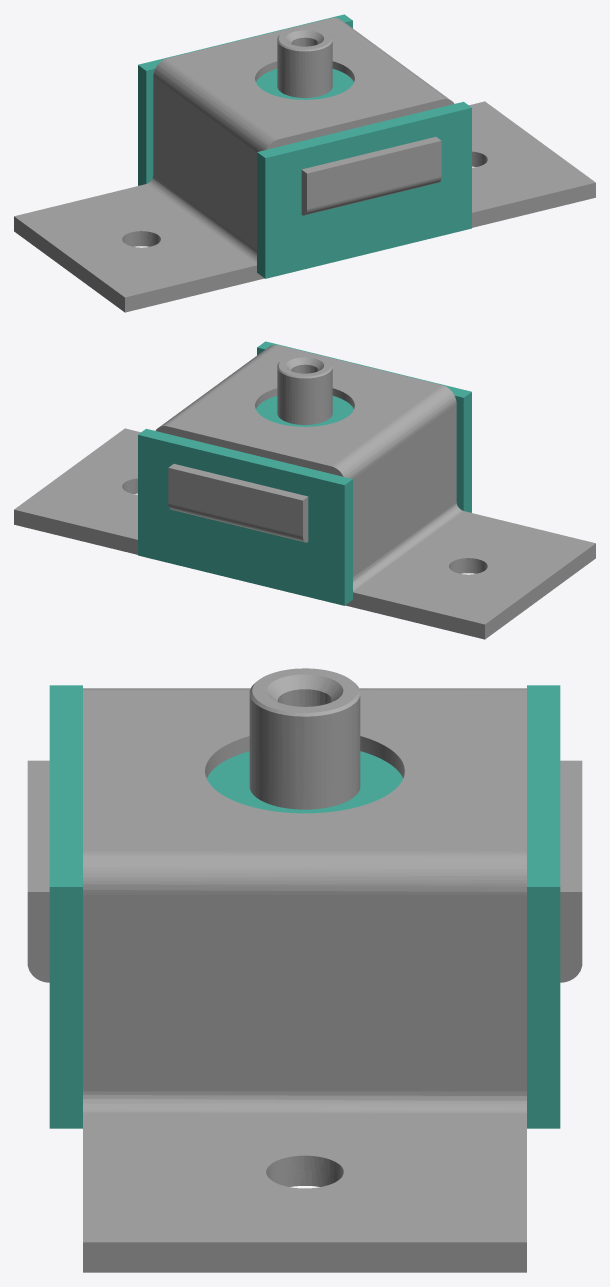
The model's file is EP_SYLOMER.fbx.
3 renders of one model, top to bottom at view 1: azimuth 30°, elevation 25°; view 2: azimuth 150°, elevation 25°; view 3: azimuth 270°, elevation 25°, orthographic. The views are drawn at different scales.
Parts seen in each view (by area): view 1: EF243C8A0DBEE86366BDCDA20E7DCD0C81D860C5|:|3F635CC986B490470, EF243C8A0DBEE86366BDCDA20E7DCD0C81D860C5|:|62A847F87F404A138, EF243C8A0DBEE86366BDCDA20E7DCD0C81D860C5|:|56E04FEF2A7239C0D, EF243C8A0DBEE86366BDCDA20E7DCD0C81D860C5|:|7325FF14D543F8139, EF243C8A0DBEE86366BDCDA20E7DCD0C81D860C5|:|C906BBC760572095F, EF243C8A0DBEE86366BDCDA20E7DCD0C81D860C5|:|B8A4396250C5687B1; view 2: EF243C8A0DBEE86366BDCDA20E7DCD0C81D860C5|:|3F635CC986B490470, EF243C8A0DBEE86366BDCDA20E7DCD0C81D860C5|:|62A847F87F404A138, EF243C8A0DBEE86366BDCDA20E7DCD0C81D860C5|:|56E04FEF2A7239C0D, EF243C8A0DBEE86366BDCDA20E7DCD0C81D860C5|:|7325FF14D543F8139, EF243C8A0DBEE86366BDCDA20E7DCD0C81D860C5|:|C906BBC760572095F, EF243C8A0DBEE86366BDCDA20E7DCD0C81D860C5|:|B8A4396250C5687B1; view 3: EF243C8A0DBEE86366BDCDA20E7DCD0C81D860C5|:|3F635CC986B490470, EF243C8A0DBEE86366BDCDA20E7DCD0C81D860C5|:|56E04FEF2A7239C0D, EF243C8A0DBEE86366BDCDA20E7DCD0C81D860C5|:|C906BBC760572095F, EF243C8A0DBEE86366BDCDA20E7DCD0C81D860C5|:|7325FF14D543F8139, EF243C8A0DBEE86366BDCDA20E7DCD0C81D860C5|:|62A847F87F404A138, EF243C8A0DBEE86366BDCDA20E7DCD0C81D860C5|:|B8A4396250C5687B1.
Boxes of the visible parts, x1,y1,x2,y2 form: EF243C8A0DBEE86366BDCDA20E7DCD0C81D860C5|:|3F635CC986B490470: (14, 17, 595, 304); EF243C8A0DBEE86366BDCDA20E7DCD0C81D860C5|:|62A847F87F404A138: (138, 125, 471, 278); EF243C8A0DBEE86366BDCDA20E7DCD0C81D860C5|:|56E04FEF2A7239C0D: (138, 14, 471, 218); EF243C8A0DBEE86366BDCDA20E7DCD0C81D860C5|:|7325FF14D543F8139: (301, 137, 441, 215); EF243C8A0DBEE86366BDCDA20E7DCD0C81D860C5|:|C906BBC760572095F: (277, 27, 332, 97); EF243C8A0DBEE86366BDCDA20E7DCD0C81D860C5|:|B8A4396250C5687B1: (14, 159, 595, 312); EF243C8A0DBEE86366BDCDA20E7DCD0C81D860C5|:|3F635CC986B490470: (14, 344, 595, 631); EF243C8A0DBEE86366BDCDA20E7DCD0C81D860C5|:|62A847F87F404A138: (138, 452, 471, 605); EF243C8A0DBEE86366BDCDA20E7DCD0C81D860C5|:|56E04FEF2A7239C0D: (138, 341, 471, 545); EF243C8A0DBEE86366BDCDA20E7DCD0C81D860C5|:|7325FF14D543F8139: (168, 464, 308, 542); EF243C8A0DBEE86366BDCDA20E7DCD0C81D860C5|:|C906BBC760572095F: (277, 354, 332, 424); EF243C8A0DBEE86366BDCDA20E7DCD0C81D860C5|:|B8A4396250C5687B1: (14, 486, 595, 639); EF243C8A0DBEE86366BDCDA20E7DCD0C81D860C5|:|3F635CC986B490470: (83, 688, 526, 1257); EF243C8A0DBEE86366BDCDA20E7DCD0C81D860C5|:|56E04FEF2A7239C0D: (49, 685, 560, 1007); EF243C8A0DBEE86366BDCDA20E7DCD0C81D860C5|:|C906BBC760572095F: (249, 668, 360, 809); EF243C8A0DBEE86366BDCDA20E7DCD0C81D860C5|:|7325FF14D543F8139: (27, 760, 582, 982); EF243C8A0DBEE86366BDCDA20E7DCD0C81D860C5|:|62A847F87F404A138: (49, 1007, 560, 1128); EF243C8A0DBEE86366BDCDA20E7DCD0C81D860C5|:|B8A4396250C5687B1: (83, 1170, 526, 1272).
Size of the model in its own units: 9.8 by 3.5 by 5.
